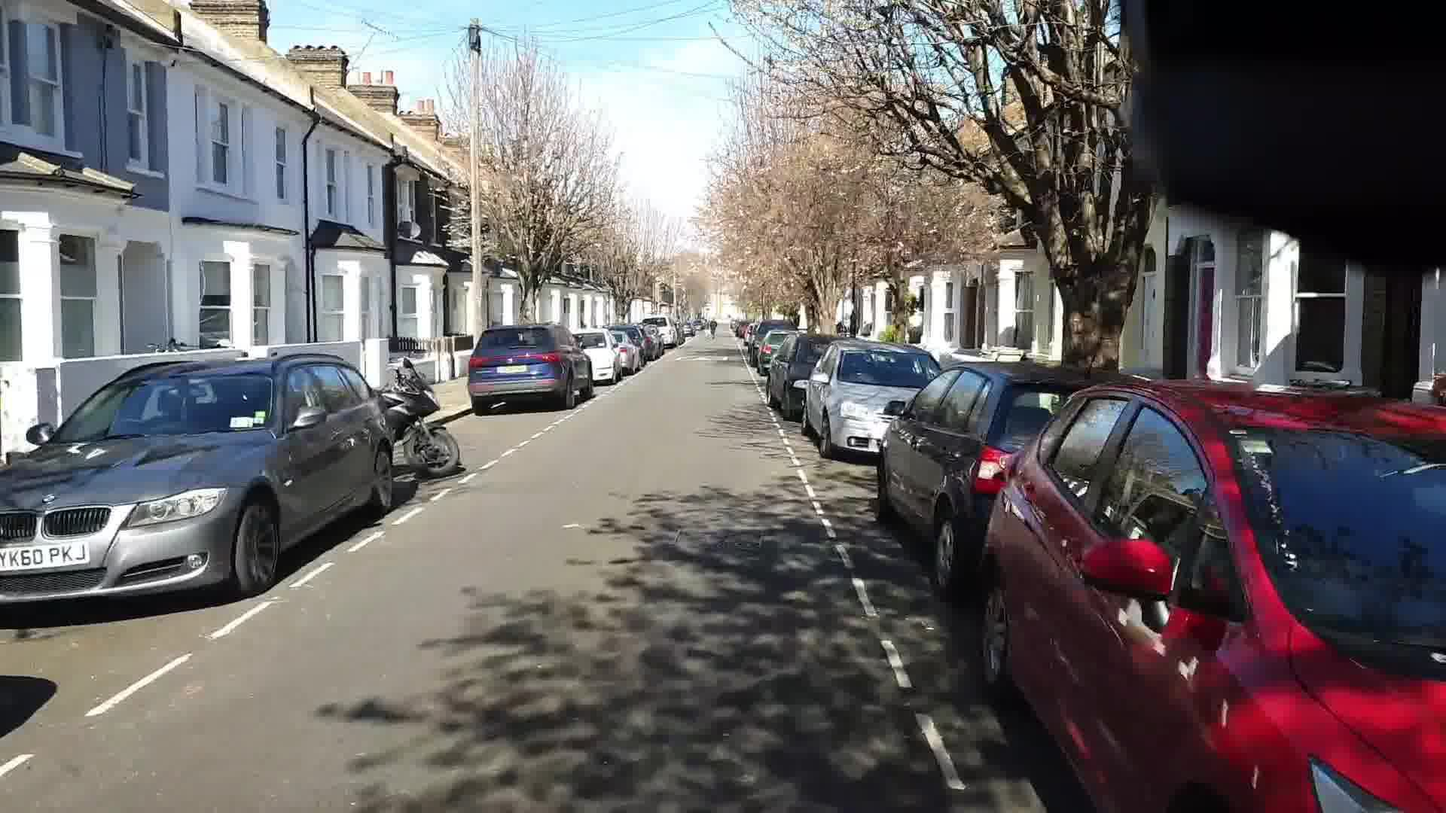car: (839, 349, 1440, 811), (6, 346, 468, 631), (785, 334, 1023, 474)
